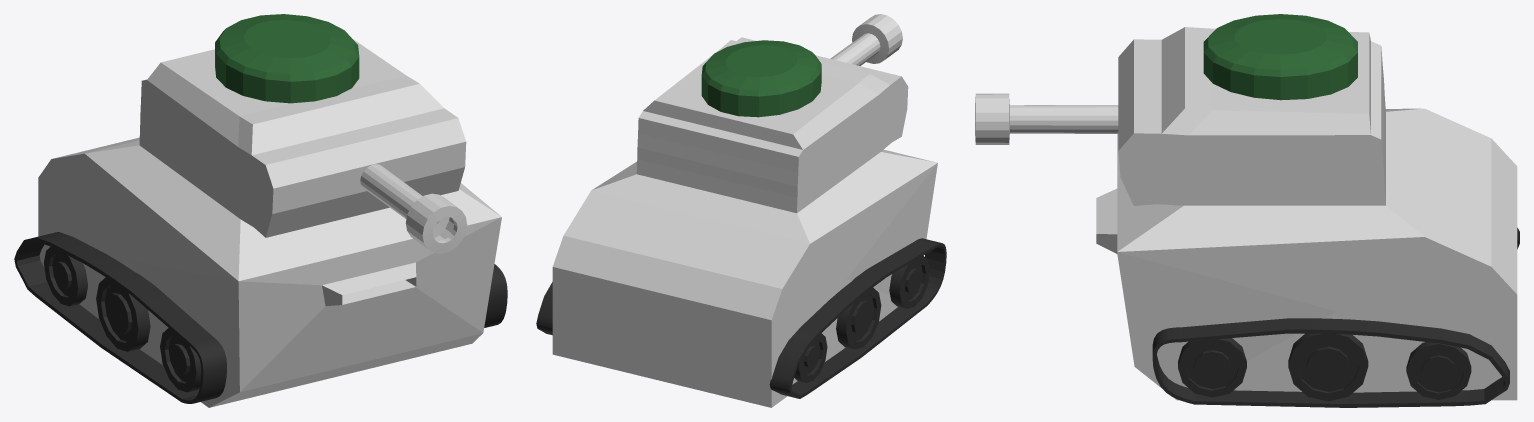
The model's file is Tank.FBX.
The picture shows the model from 3 angles, left to right: view 1: azimuth 30°, elevation 25°; view 2: azimuth 150°, elevation 25°; view 3: azimuth 270°, elevation 25°; orthographic projection. The views are drawn at different scales.
Parts seen in each view (by area): view 1: Armor, Treads, Lid, Cannon; view 2: Armor, Treads, Lid, Cannon; view 3: Armor, Treads, Lid, Cannon.
Boxes of the visible parts, left/top/right/bottom form: Armor: left=38, top=38, right=501, bottom=407; Treads: left=14, top=232, right=507, bottom=403; Lid: left=215, top=14, right=359, bottom=103; Cannon: left=360, top=164, right=467, bottom=253; Armor: left=552, top=37, right=937, bottom=407; Treads: left=536, top=238, right=946, bottom=398; Lid: left=701, top=40, right=821, bottom=117; Cannon: left=830, top=14, right=902, bottom=65; Armor: left=1096, top=27, right=1517, bottom=400; Treads: left=1152, top=227, right=1519, bottom=407; Lid: left=1203, top=14, right=1357, bottom=100; Cannon: left=975, top=93, right=1118, bottom=144.
Size of the model in its own units: 228 by 210 by 348.
